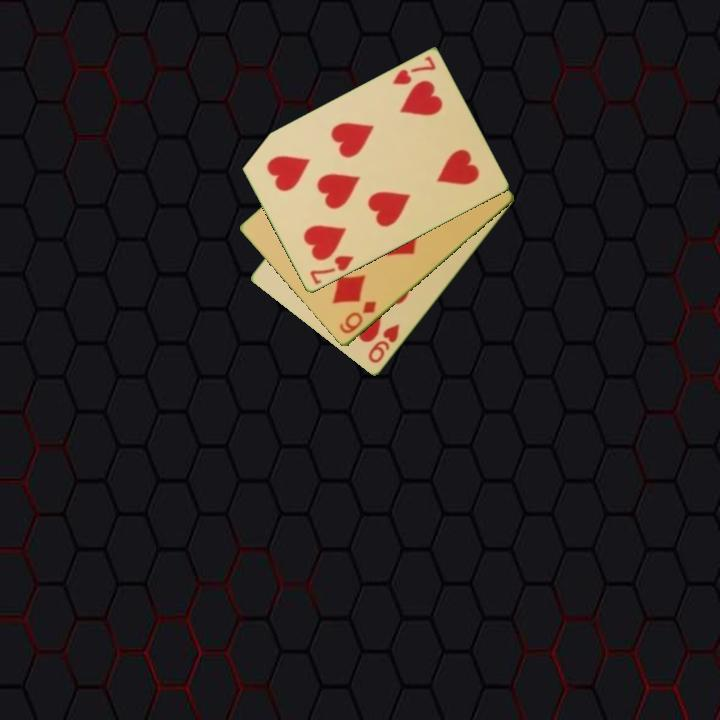6d: (336, 298, 380, 337)
7h: (306, 252, 357, 288), (389, 53, 439, 88)
9h: (365, 320, 403, 366)
